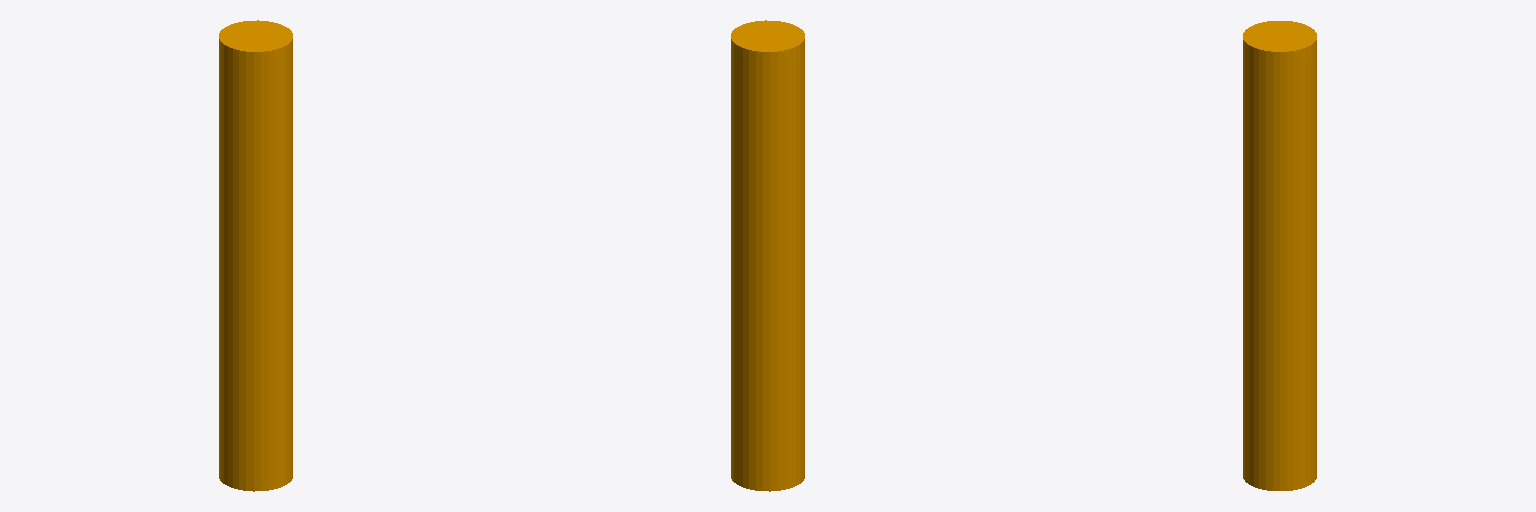
URDF robot description (cylinder_13):
<robot name="cylinder_13">
  <link name="base_link">
    <inertial>
      <origin xyz="0.0 0.0 0.0" rpy="0 0 0" />
      <mass value="0.6"/>
      <inertia ixx="0.001" ixy="0.0" ixz="0.0"
	       iyy="0.001" iyz="0.0"
	       izz="0.001" />
    </inertial>
    <visual>
      <origin xyz="0 0 0" rpy="0 0 0" />
      <geometry>
	<cylinder radius="0.01" length="0.12970562748477143"/>
      </geometry>
    </visual>
    <collision>
      <origin xyz="0 0 0" rpy="0 0 0" />
      <geometry>
	<box size="0.12970562748477143 0.01 0.01"/>
      </geometry>
    </collision>
  </link>
</robot>

--- What the picture shows (computed from the rendered views, not written in the file) ---
The picture shows the robot from 3 angles, left to right: view 1: azimuth 30°, elevation 25°; view 2: azimuth 150°, elevation 25°; view 3: azimuth 270°, elevation 25°; orthographic projection.
Model cylinder_13 with 1 links and 0 joints (none), rooted at base_link, posed every joint at zero.
Visible links, largest first — view 1: base_link; view 2: base_link; view 3: base_link.
Boxes of the visible links, x1,y1,x2,y2 form: base_link: (219,20,292,491); base_link: (731,20,804,491); base_link: (1243,21,1316,490).
Size in the robot's own frame: 0.02 by 0.02 by 0.1297 metres.
Geometry: primitives only (box / cylinder / sphere), no mesh files.